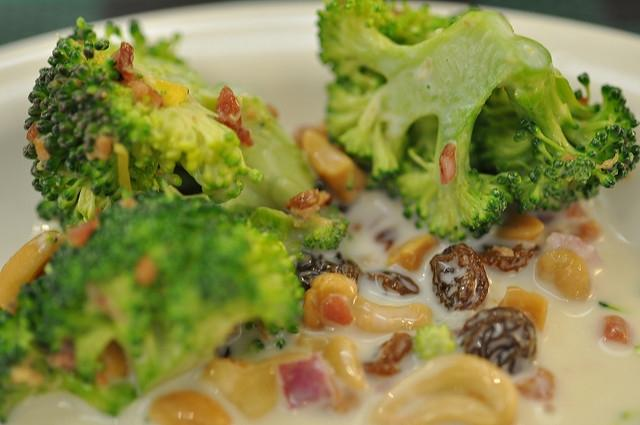broccoli: (317, 0, 640, 242), (0, 192, 306, 425), (22, 16, 319, 234)
